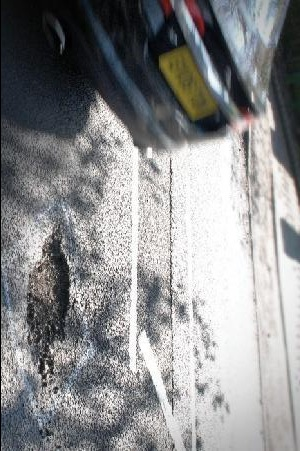pothole: (24, 223, 72, 370), (237, 126, 250, 169)
